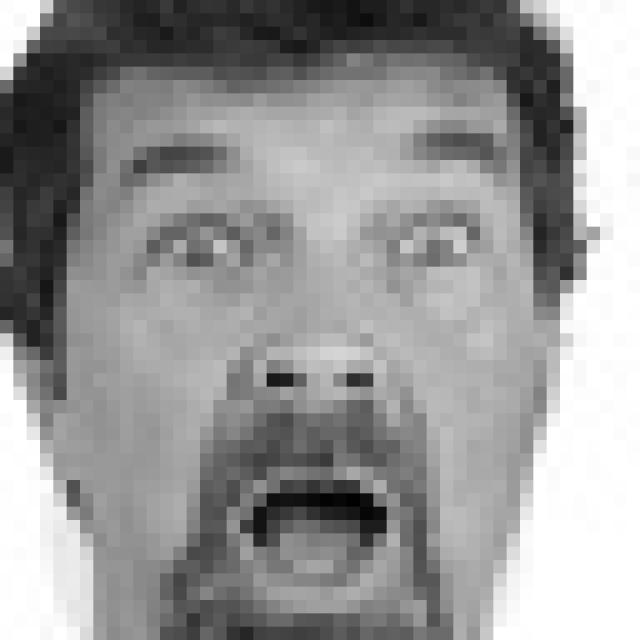surprise: (100, 114, 527, 625)
